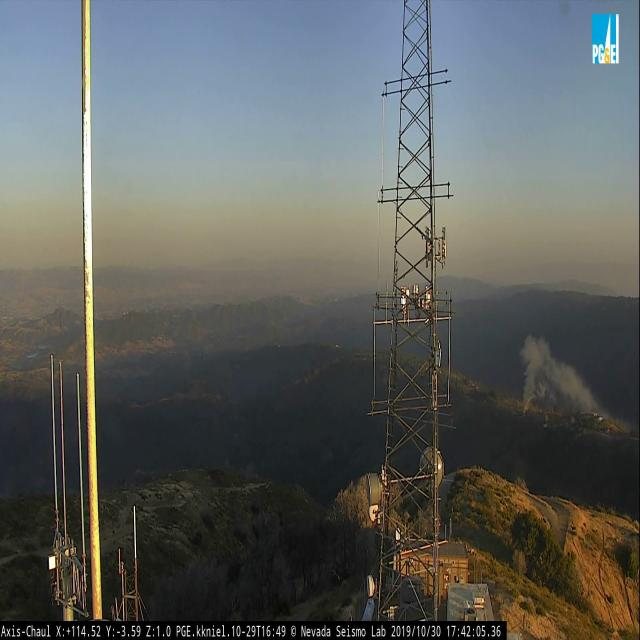smoke: (520, 333, 615, 423)
